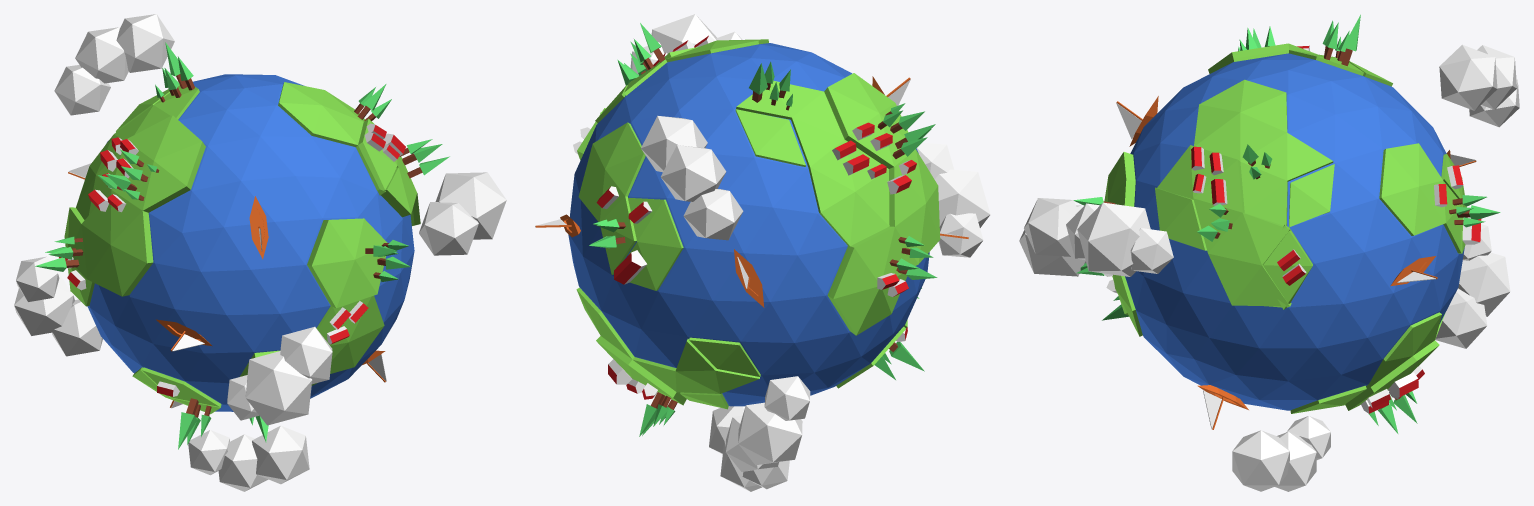
The model's file is low_poly_earth.glb.
3 renders of one model, left to right at view 1: azimuth 30°, elevation 25°; view 2: azimuth 150°, elevation 25°; view 3: azimuth 270°, elevation 25°, orthographic. The views are drawn at different scales.
Parts seen in each view (by area): view 1: Icosphere.001, Icosphere, Icosphere.019, Icosphere.023, Icosphere.004, Icosphere.024, Icosphere.016, Icosphere.014, Icosphere.020, Icosphere.010, Icosphere.017, Icosphere.012 (+6 smaller); view 2: Icosphere.001, Icosphere, Icosphere.010, Icosphere.014, Icosphere.019, Icosphere.017, Icosphere.016, Icosphere.013, Icosphere.021, Icosphere.023, Icosphere.012, Icosphere.004 (+5 smaller); view 3: Icosphere.001, Icosphere, Icosphere.023, Icosphere.016, Icosphere.004, Icosphere.020, Icosphere.010, Icosphere.012, Icosphere.025, Icosphere.002, Icosphere.019, Icosphere.014 (+7 smaller).
Boxes of the visible parts, x1,y1,x2,y2 form: Icosphere.001: [87, 74, 414, 411]; Icosphere: [64, 82, 420, 414]; Icosphere.019: [245, 351, 312, 425]; Icosphere.023: [435, 172, 506, 239]; Icosphere.004: [252, 425, 309, 484]; Icosphere.024: [419, 202, 478, 255]; Icosphere.016: [116, 14, 174, 72]; Icosphere.014: [75, 27, 128, 83]; Icosphere.020: [280, 326, 332, 384]; Icosphere.010: [14, 271, 74, 335]; Icosphere.017: [54, 65, 110, 115]; Icosphere.012: [52, 299, 102, 356]; Icosphere.001: [568, 43, 929, 406]; Icosphere: [576, 39, 940, 409]; Icosphere.010: [738, 402, 802, 465]; Icosphere.014: [661, 145, 726, 201]; Icosphere.019: [934, 169, 990, 227]; Icosphere.017: [683, 189, 743, 240]; Icosphere.016: [641, 115, 707, 172]; Icosphere.013: [764, 376, 810, 420]; Icosphere.021: [938, 213, 983, 257]; Icosphere.023: [651, 14, 716, 53]; Icosphere.012: [725, 415, 778, 471]; Icosphere.004: [709, 406, 745, 454]; Icosphere.001: [1125, 53, 1464, 410]; Icosphere: [1104, 43, 1466, 413]; Icosphere.023: [1077, 202, 1150, 276]; Icosphere.016: [1439, 44, 1497, 110]; Icosphere.004: [1232, 430, 1289, 491]; Icosphere.020: [1024, 198, 1078, 256]; Icosphere.010: [1458, 252, 1510, 316]; Icosphere.012: [1435, 288, 1487, 348]; Icosphere.025: [1130, 228, 1173, 273]; Icosphere.002: [1275, 431, 1316, 491]; Icosphere.019: [1019, 205, 1085, 276]; Icosphere.014: [1477, 45, 1516, 109].
Bounding box in the file's own units: 2.69 × 3.03 × 3.02.
